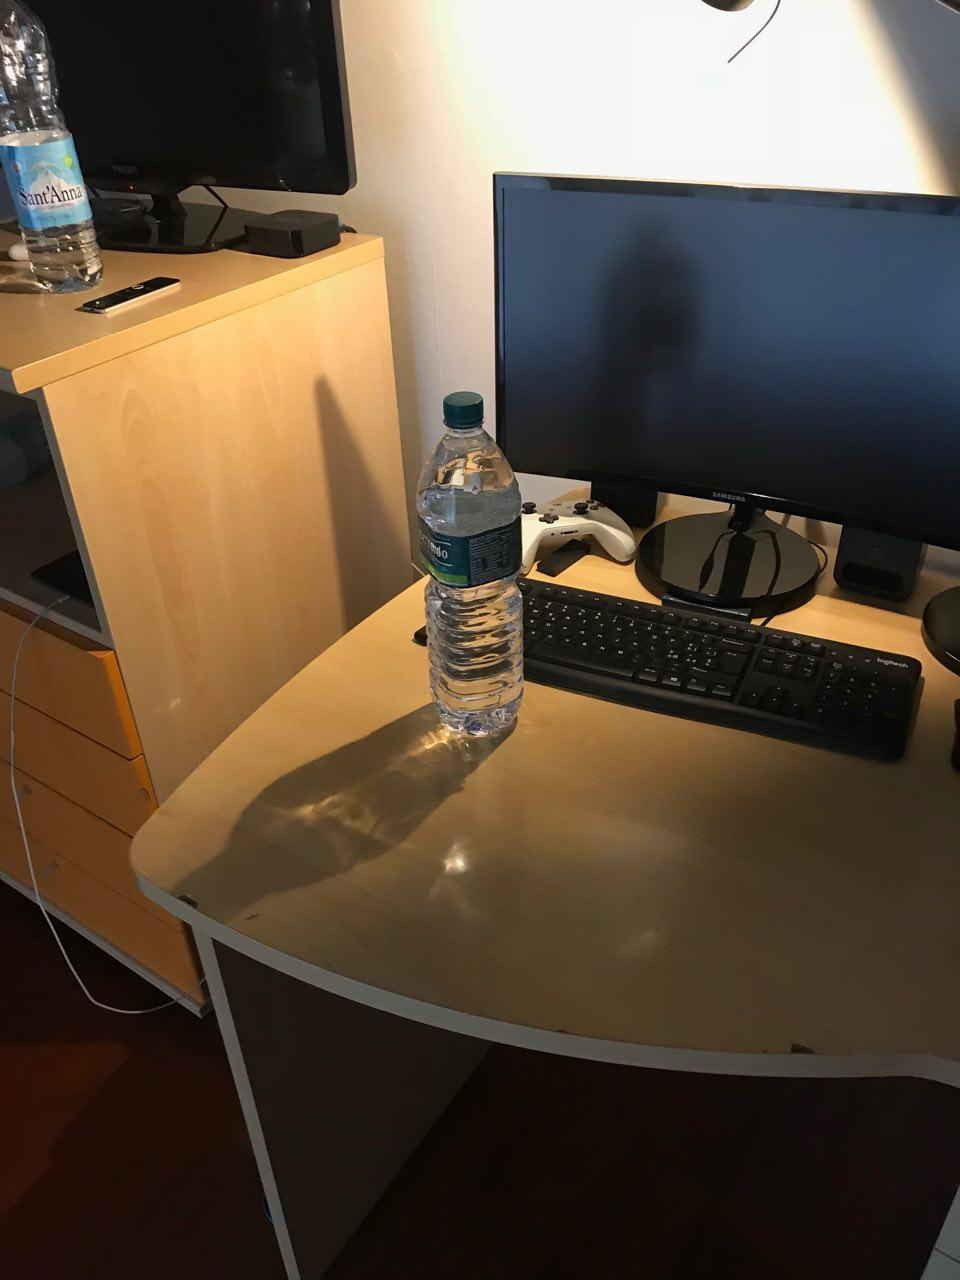san_bernardo: (415, 390, 524, 739)
